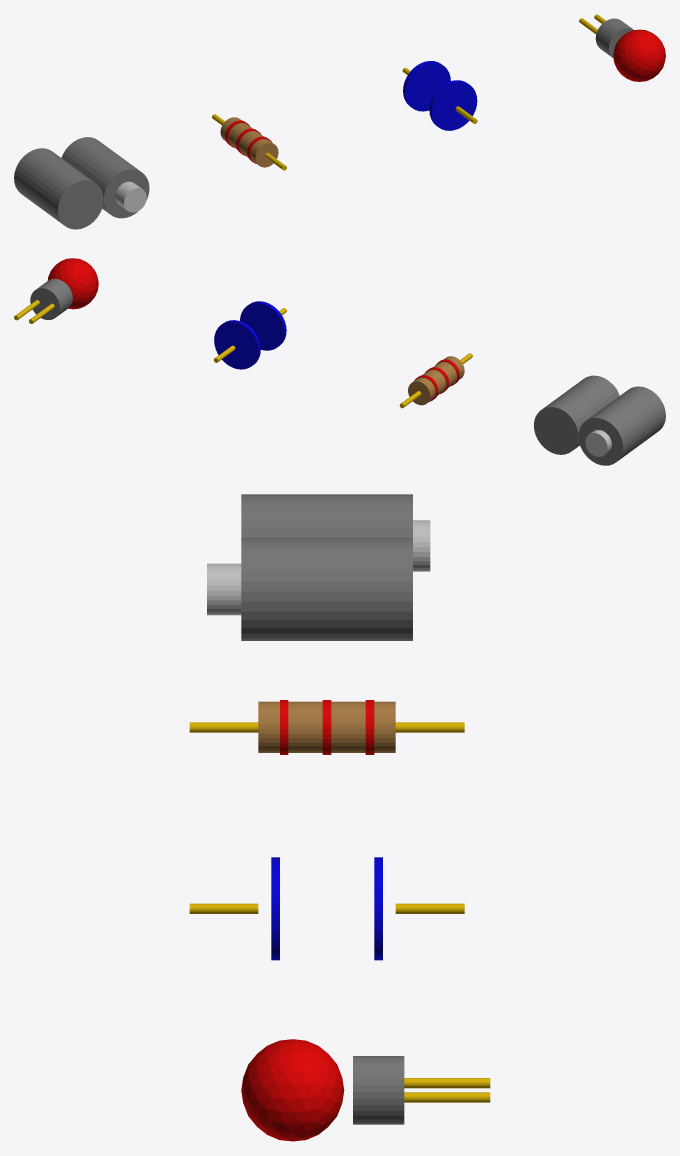
File: circuit_components.glb
3 renders of one model, top to bottom at view 1: azimuth 30°, elevation 25°; view 2: azimuth 150°, elevation 25°; view 3: azimuth 270°, elevation 25°, orthographic. The views are drawn at different scales.
Visible parts, largest first — view 1: world; view 2: world; view 3: world.
Boxes of the visible parts, box(x1,y1,x2,y2) form: world: box(14, 14, 665, 229); world: box(14, 258, 665, 465); world: box(189, 494, 490, 1141).
Bounding box in the file's own units: 8.1 × 0.6 × 1.75.
